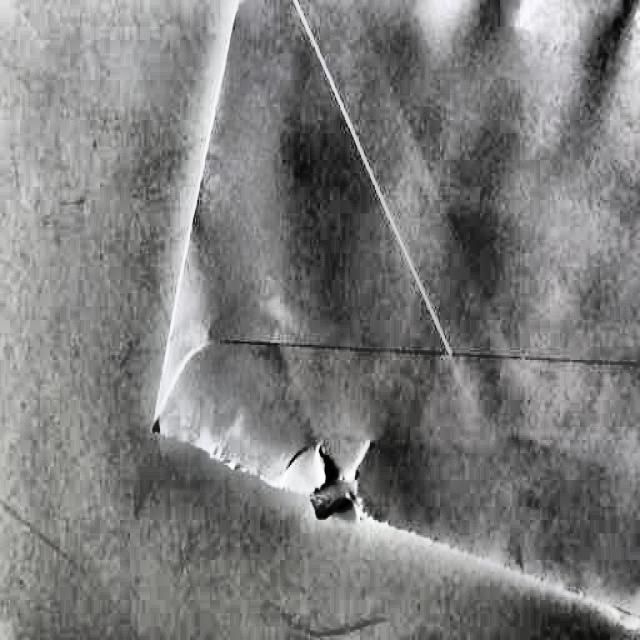paper: (141, 3, 640, 624)
